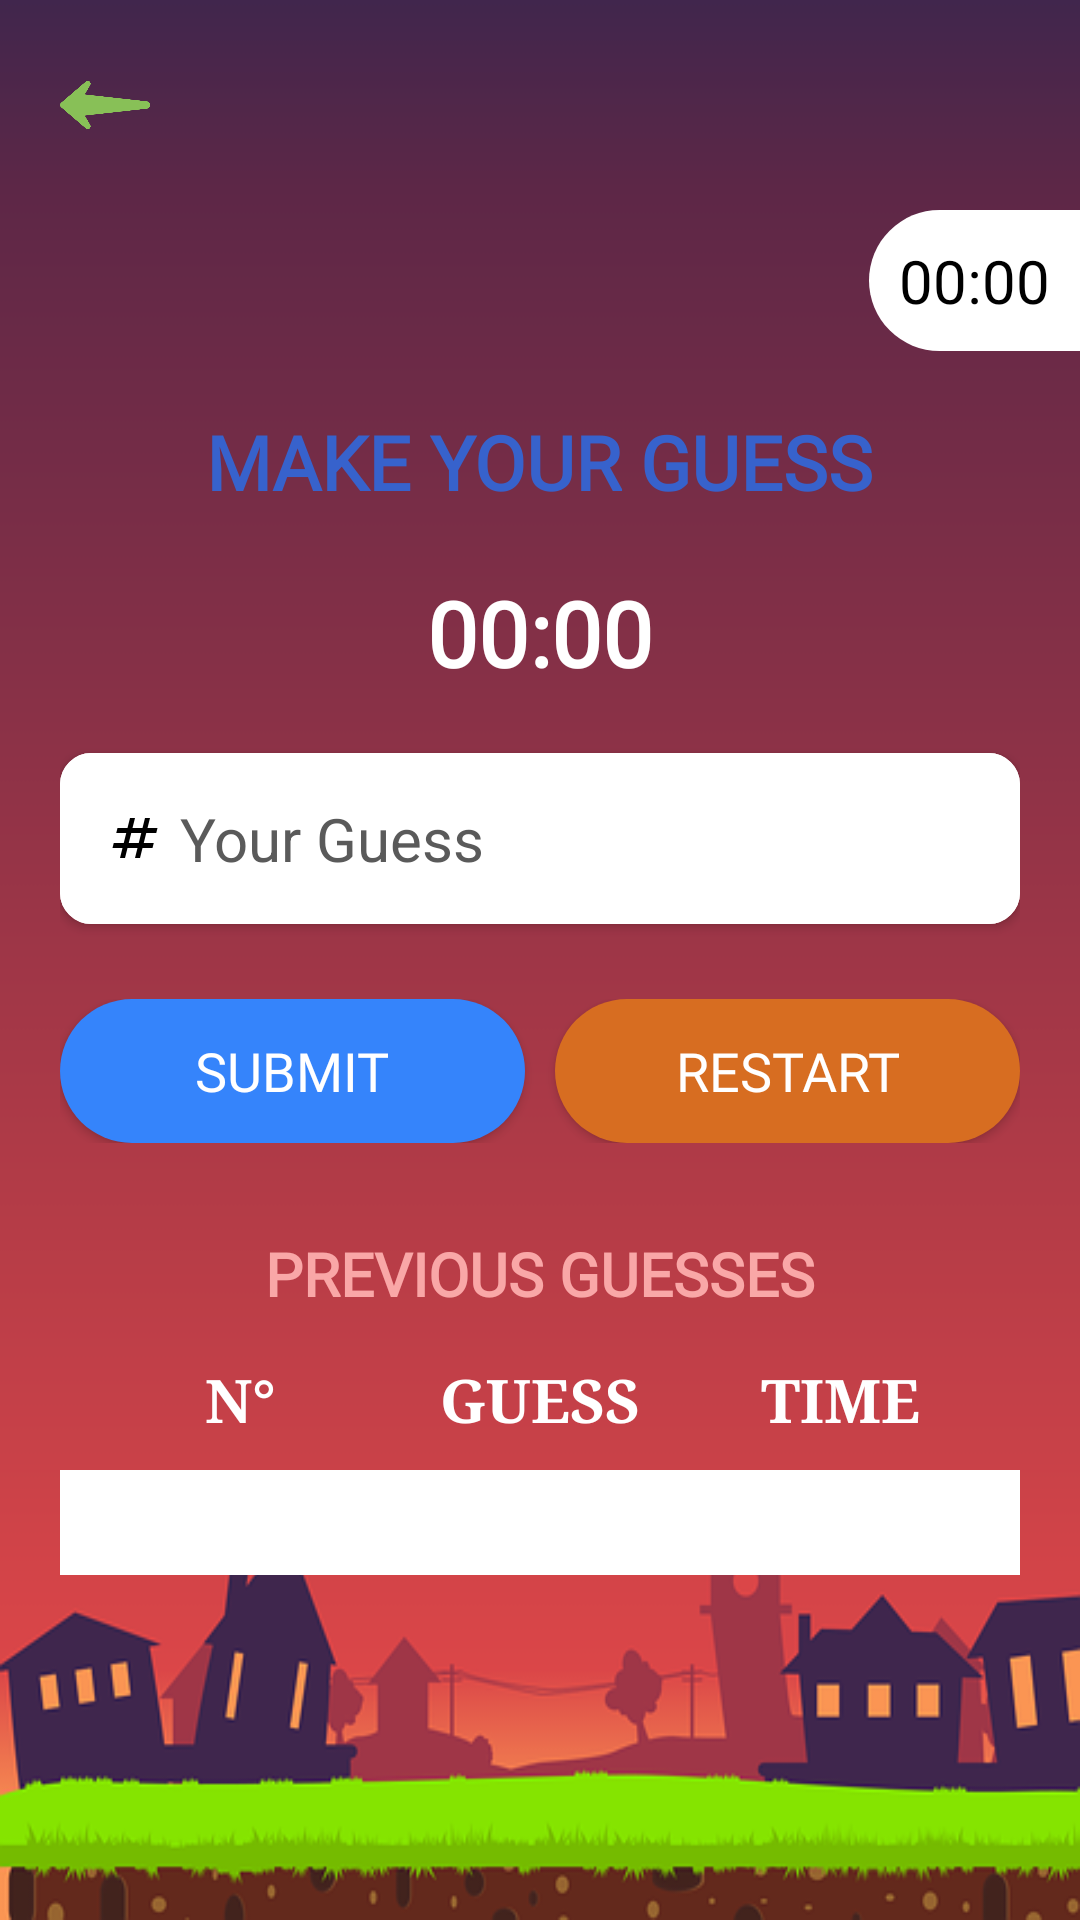

Icon click points for this 1080 × 1920 phone screenshot, format (x,y):
arrow back: (105,105)
